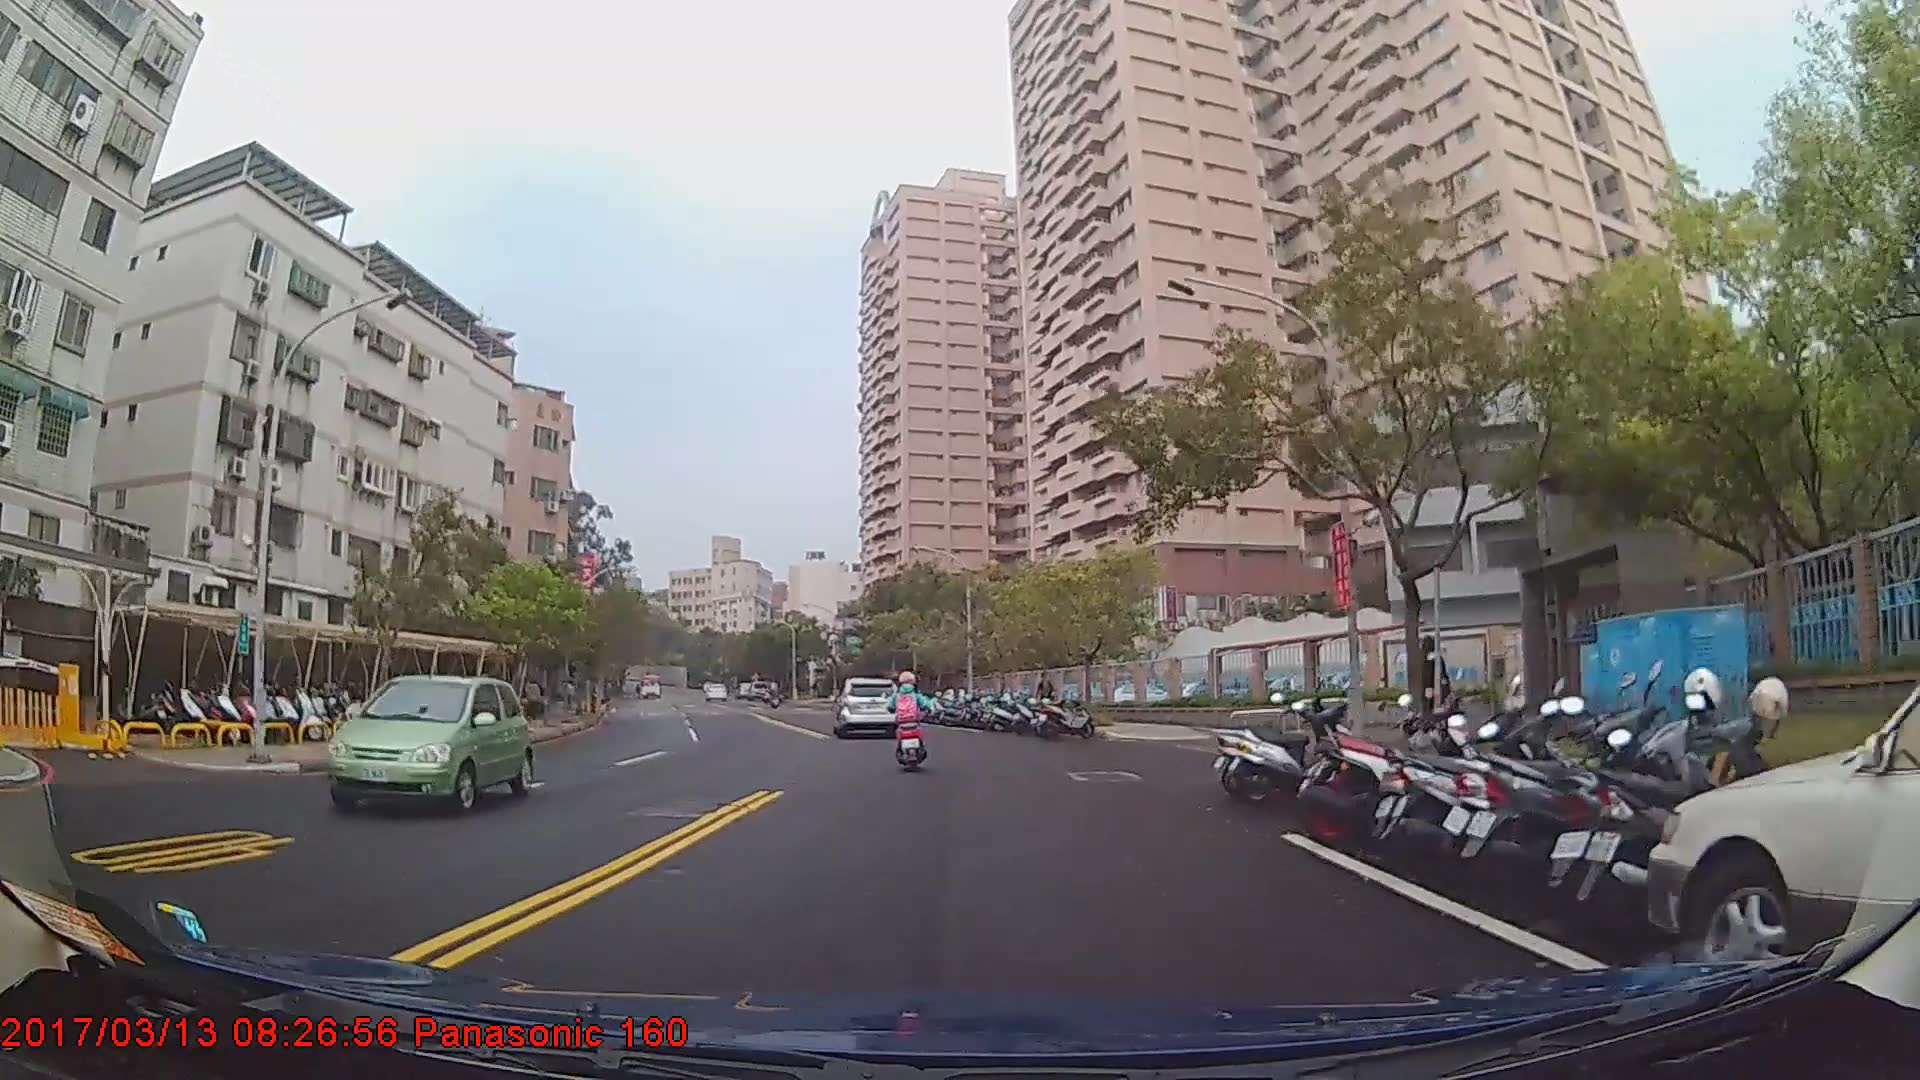pedestrian: (1415, 632, 1451, 762), (1035, 673, 1056, 728)
rider: (889, 672, 932, 776)
vehicle: (1646, 681, 1920, 1002), (318, 674, 531, 814), (834, 673, 900, 738), (636, 673, 664, 700)
